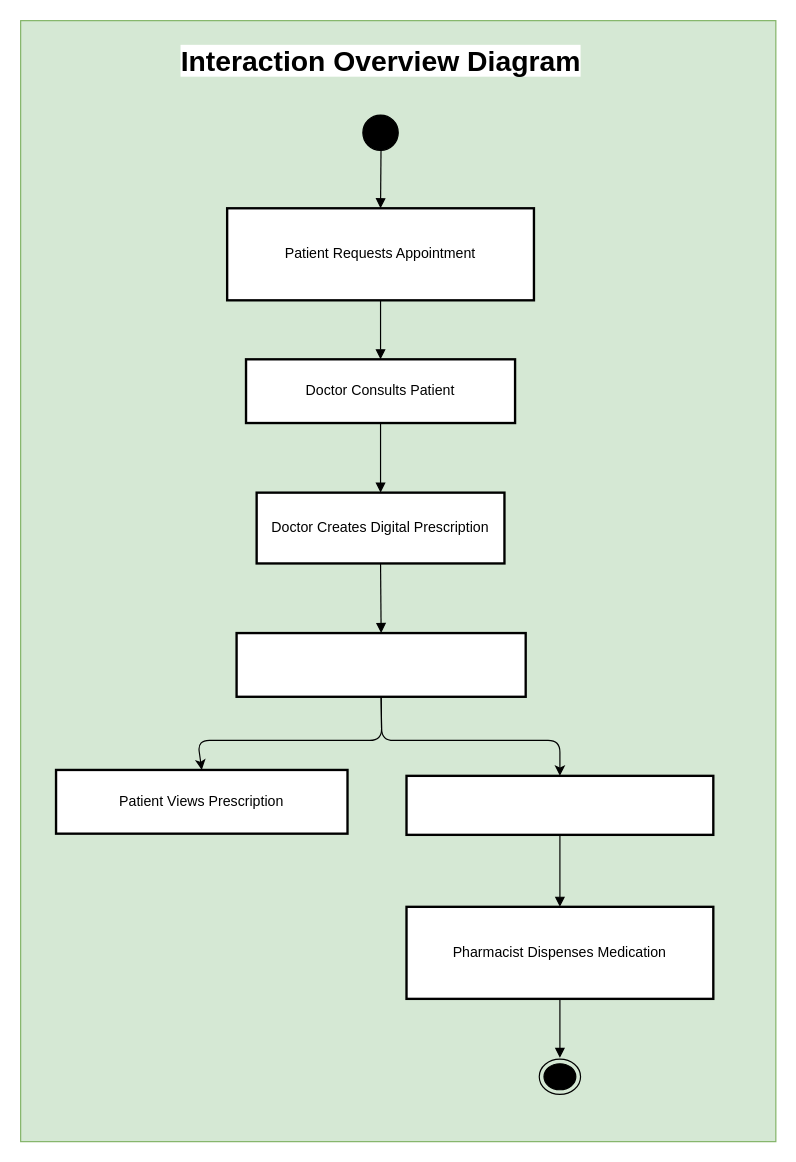
Image size: 796x1162. Some labels were removed from this diagram. The shapes that lost their labels are listed below. From the top down, each one's box as (x1, y1, x2, y2) in pixels, then its label:
(235, 631, 526, 697): System Saves Prescription
(405, 774, 714, 835): Pharmacist Retrieves Prescription
